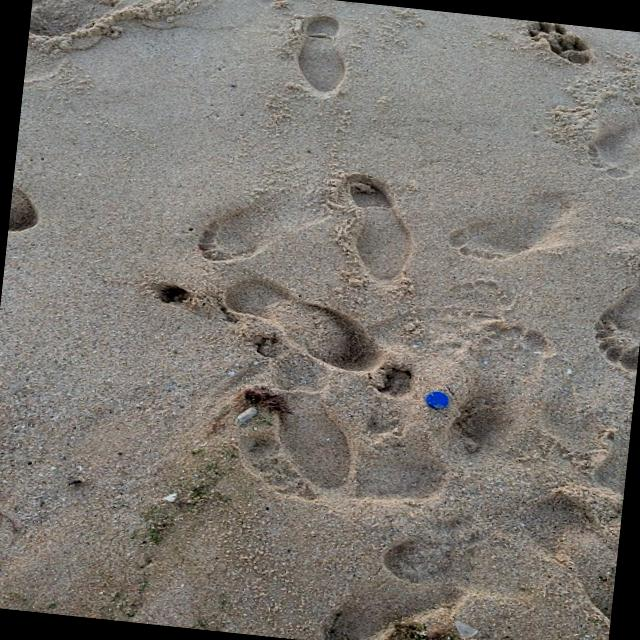Trash: (424, 389, 452, 411)
